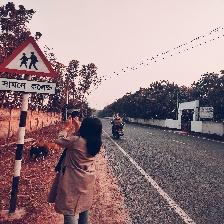College-in-front: (0, 14, 63, 108)
